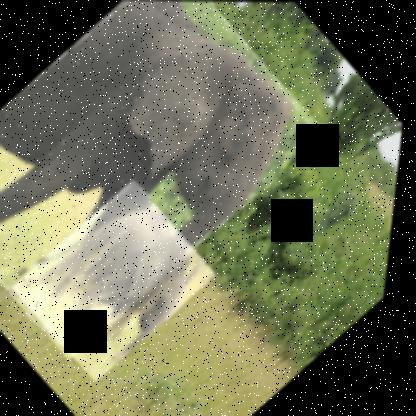Elephas-maximus: (0, 0, 340, 364), (9, 179, 231, 384)
